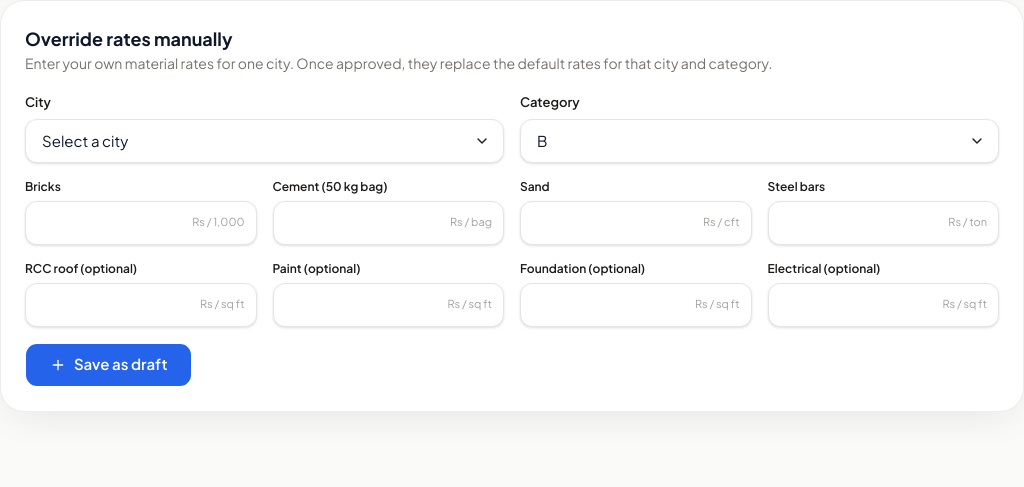
Scenario: ManualRateForm › requires a city
The width and height of the screenshot is (1024, 487).
Click the button "Save as draft" at x=109, y=364, box [25, 342, 192, 386]
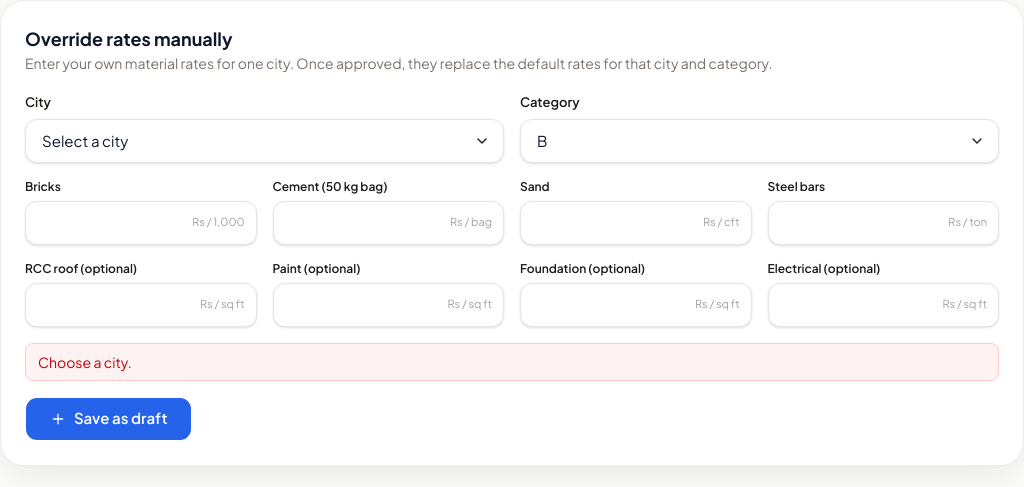
Check: the message reads "Choose a city.", box [38, 352, 132, 370]
